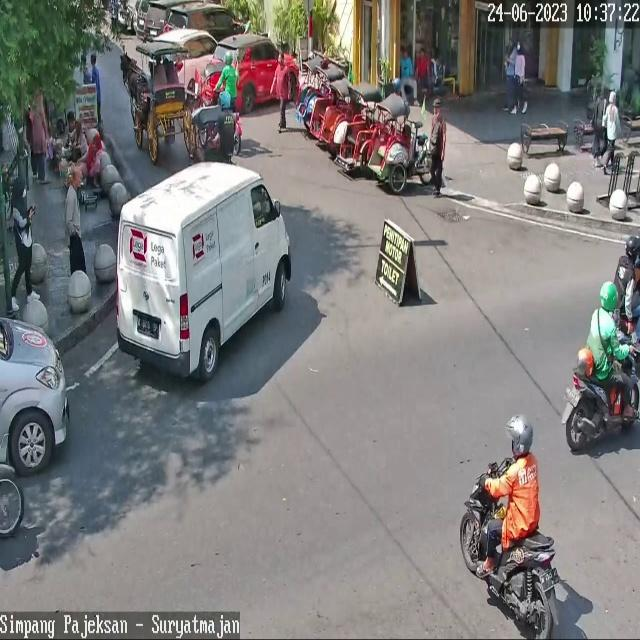bus: (458, 457, 559, 640), (566, 323, 640, 451)
motorcycle: (117, 161, 291, 380), (0, 318, 68, 477), (202, 34, 300, 114), (163, 3, 257, 63), (147, 28, 219, 84), (142, 0, 169, 42)
